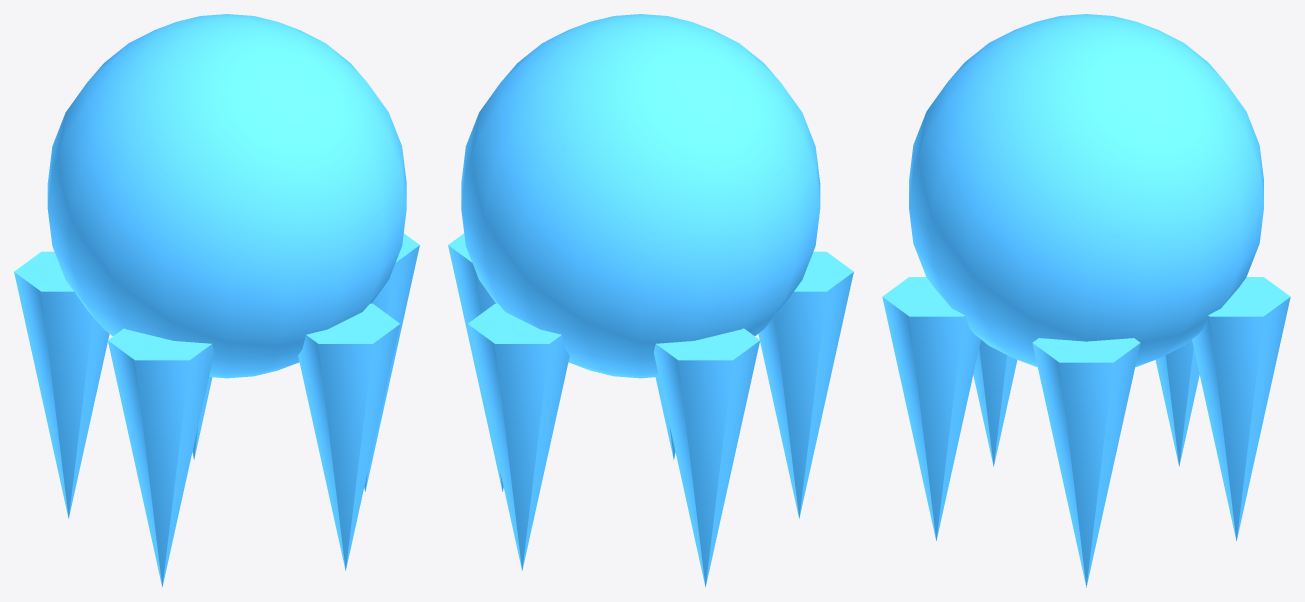
Rendered from surge_elemental.glb.
3 views of the same model, side by side, from view 1: azimuth 30°, elevation 25°; view 2: azimuth 150°, elevation 25°; view 3: azimuth 270°, elevation 25° (orthographic).
Visible parts, largest first — view 1: core; view 2: core; view 3: core.
Part boxes in pixels (bbox=[...]): core: bbox=[14, 14, 419, 587]; core: bbox=[448, 14, 853, 587]; core: bbox=[882, 14, 1290, 587].
Bounding box in the file's own units: 0.8539 × 1.2 × 0.9057.
